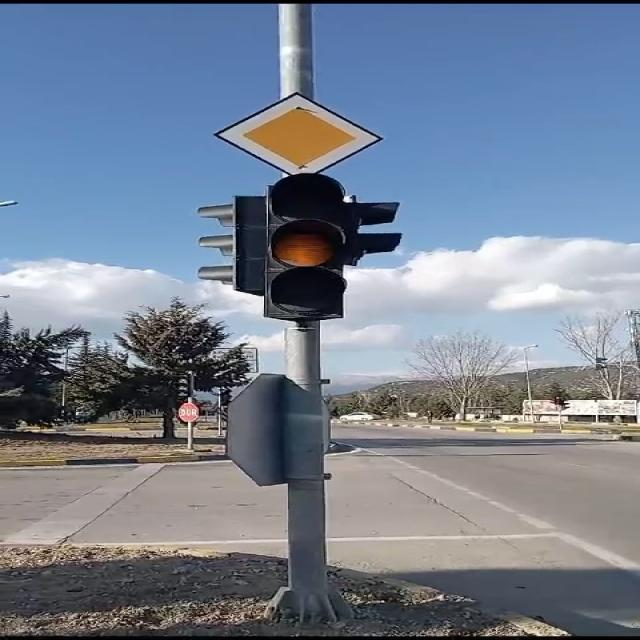sari: (264, 173, 403, 322)
